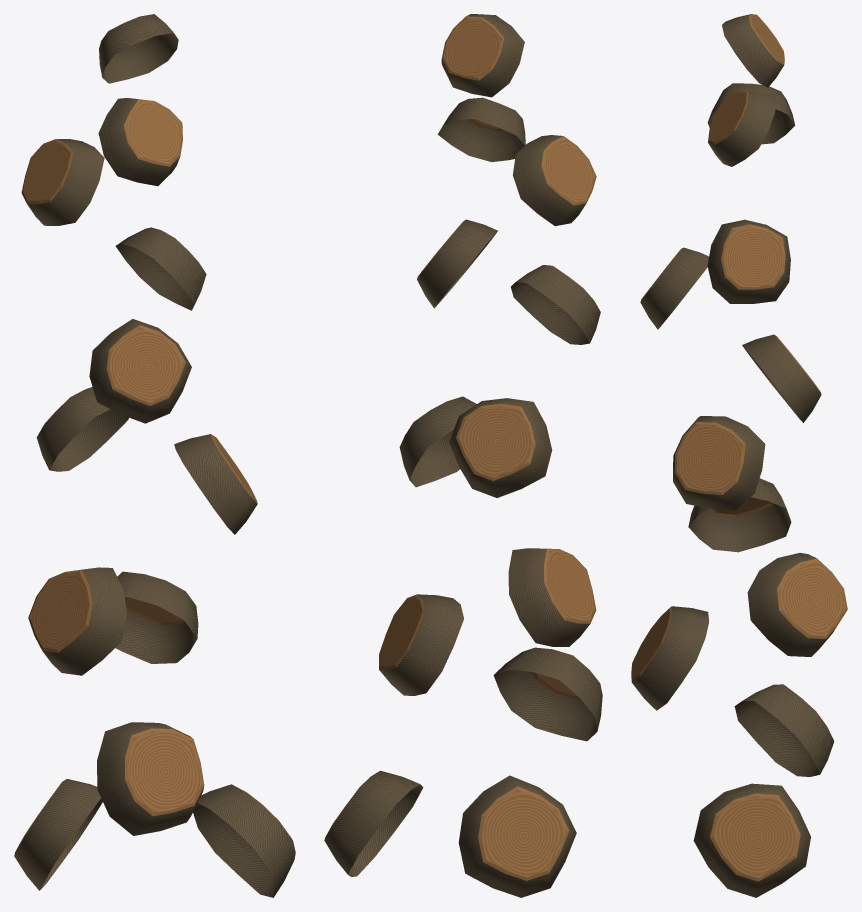
The model's file is Sessile_Oak_Mature_01_HighPruned_Recent_LOD2.fbx.
3 views of the same model, side by side, from view 1: azimuth 30°, elevation 25°; view 2: azimuth 150°, elevation 25°; view 3: azimuth 270°, elevation 25° (orthographic). The views are drawn at different scales.
Parts seen in each view (by area): view 1: Sessile_Oak_Mature_01_HighPruned_Recent_LOD2_Scars; view 2: Sessile_Oak_Mature_01_HighPruned_Recent_LOD2_Scars; view 3: Sessile_Oak_Mature_01_HighPruned_Recent_LOD2_Scars.
Boxes of the visible parts, x1,y1,x2,y2 form: Sessile_Oak_Mature_01_HighPruned_Recent_LOD2_Scars: (14, 14, 295, 897); Sessile_Oak_Mature_01_HighPruned_Recent_LOD2_Scars: (324, 14, 602, 897); Sessile_Oak_Mature_01_HighPruned_Recent_LOD2_Scars: (631, 14, 847, 897).
Size of what is drawn, in the model's own units: 154 by 517 by 123.
2 materials, 2 textured.
